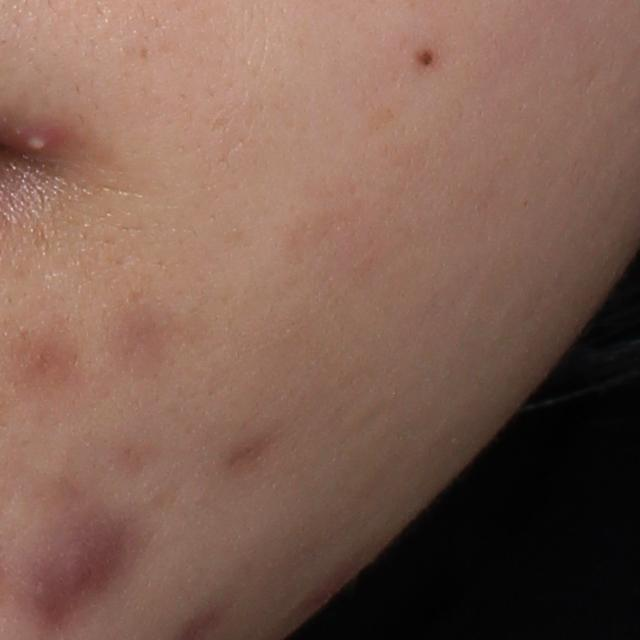nevus: (416, 48, 436, 66)
pustule: (23, 130, 54, 153)
